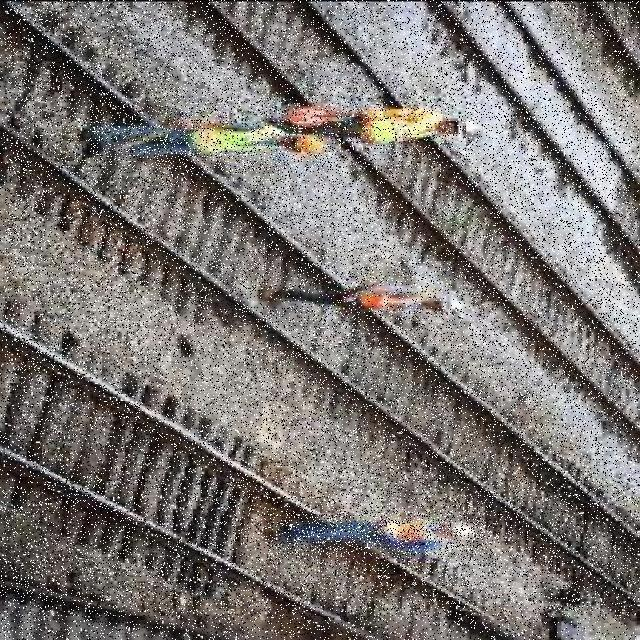rail: (7, 1, 640, 617), (155, 1, 640, 449), (2, 315, 541, 639)
